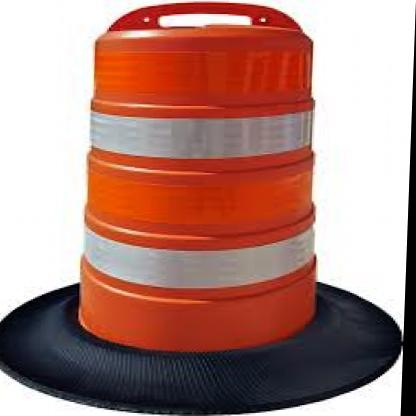obstacle: (80, 3, 330, 355)
